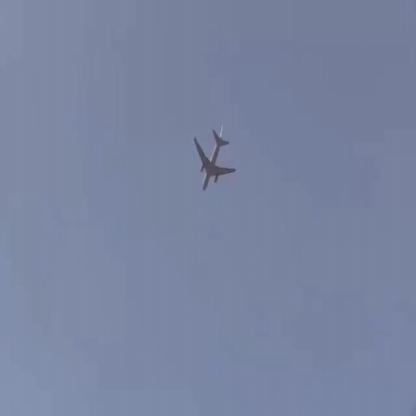CIV_Plane: (191, 128, 235, 191)
